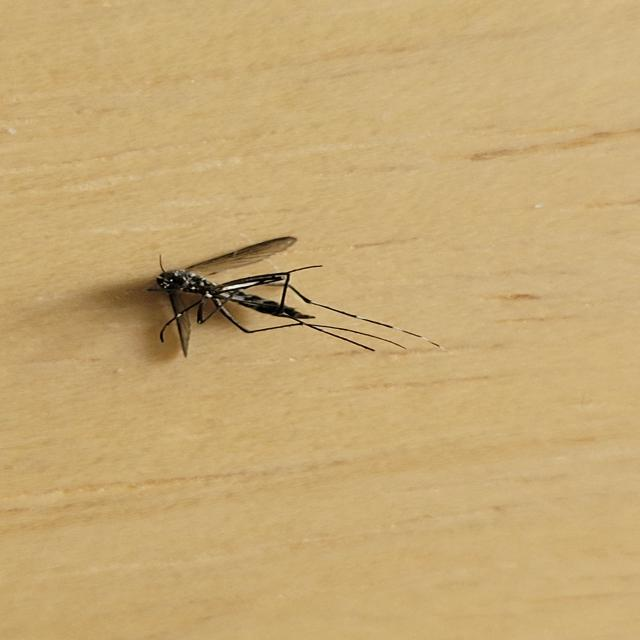albopictus: (135, 225, 434, 362)
